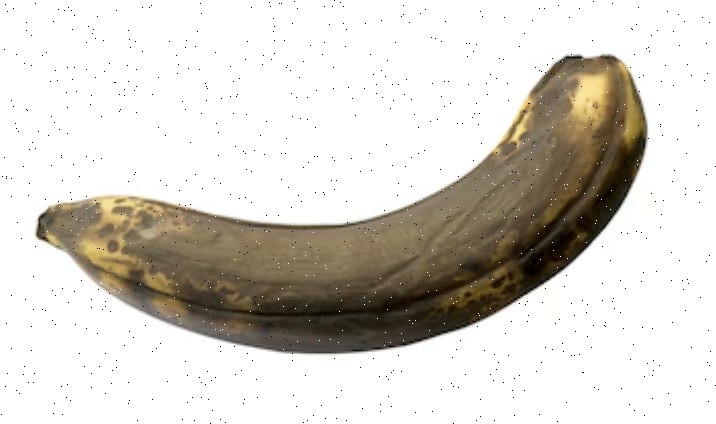rotten_banana: (42, 59, 648, 351)
